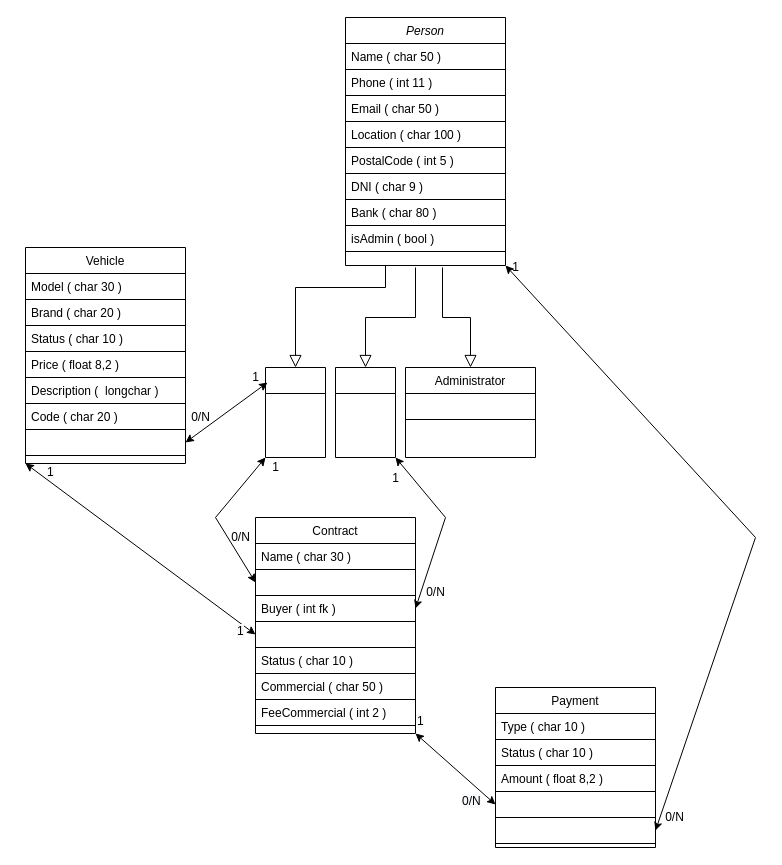
Image size: 782x865. Some labels were removed from this diagram. Each missing label, with the centre of its shape:
"Buyer" goes at [365,412].
"Contract ( int fk )" goes at [575,804].
"IdBussines ( char 50 )" goes at [470,406].
"Owner ( int fk )" goes at [105,442].
"Seller" goes at [295,412].
"Seller ( int fk )" goes at [335,582].
"User ( int fk )" goes at [575,830].
"Vehicle ( int fk )" goes at [335,634].
